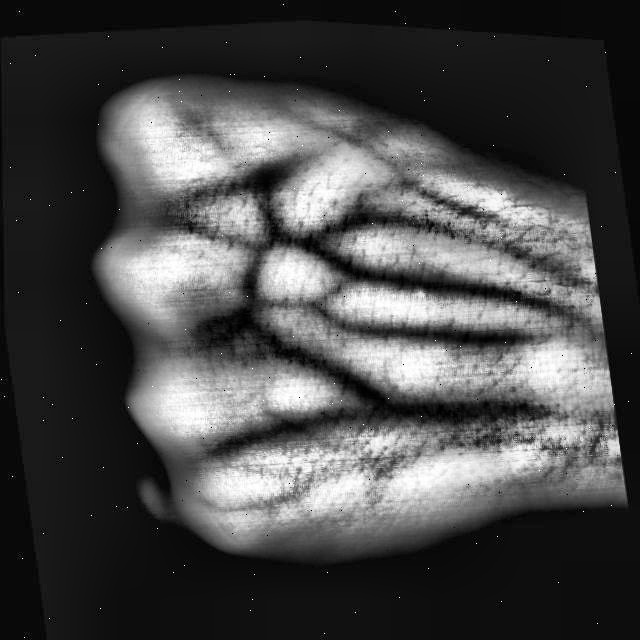Vein: (382, 204, 575, 285), (371, 260, 560, 320), (399, 397, 582, 428)
